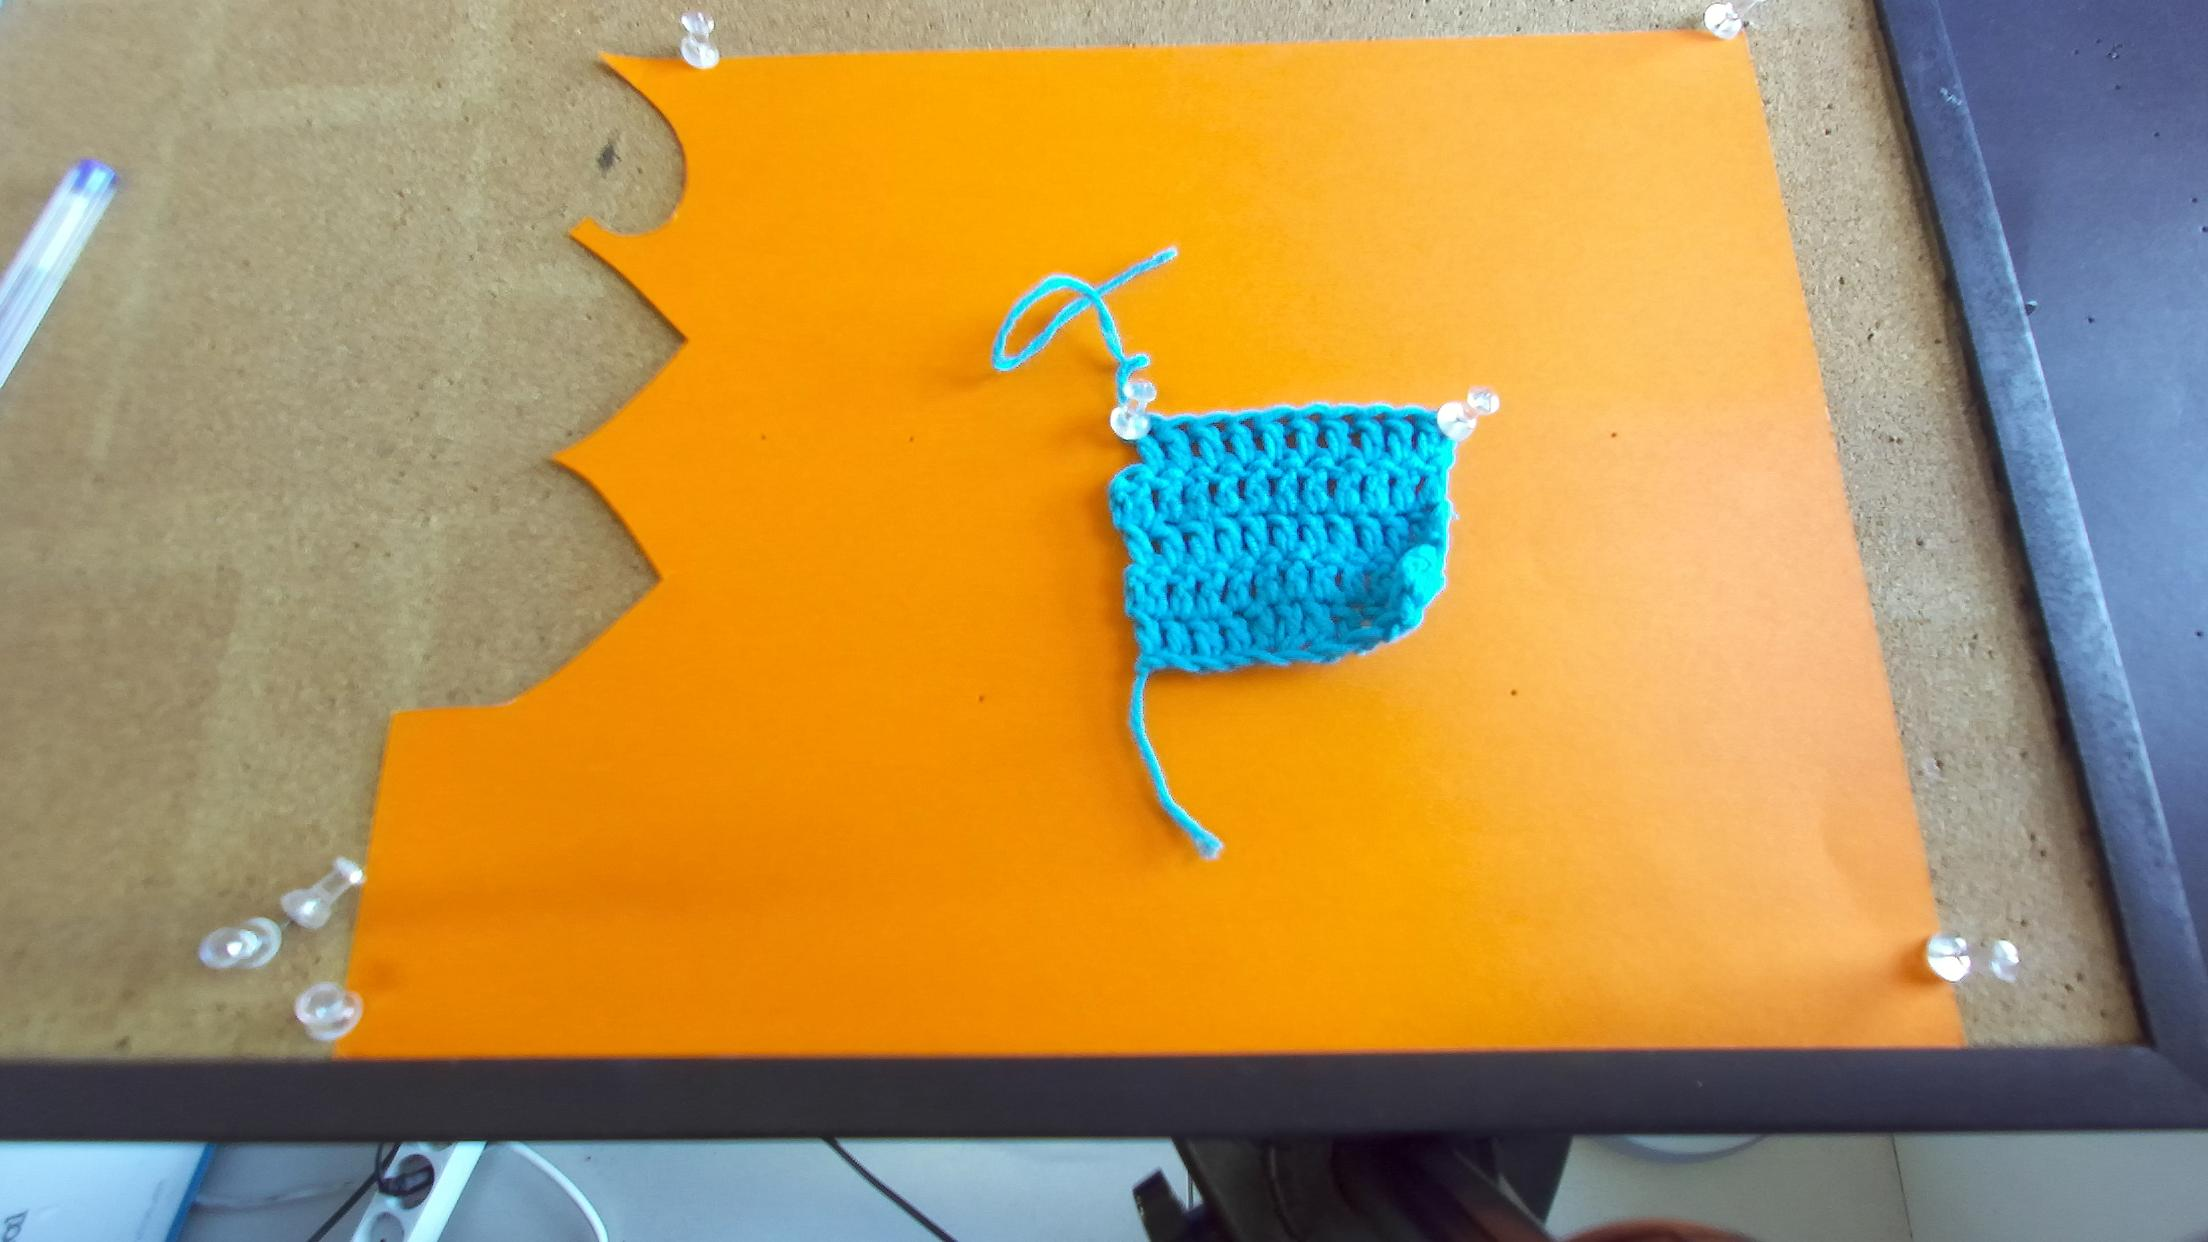hole: (1237, 417, 1257, 432), (1339, 414, 1356, 429), (1369, 412, 1388, 426), (1303, 412, 1322, 425), (1403, 414, 1419, 428), (1209, 420, 1227, 432), (1171, 422, 1189, 432), (1145, 426, 1159, 438), (1272, 417, 1291, 426)
swatch: (1109, 400, 1486, 681)
